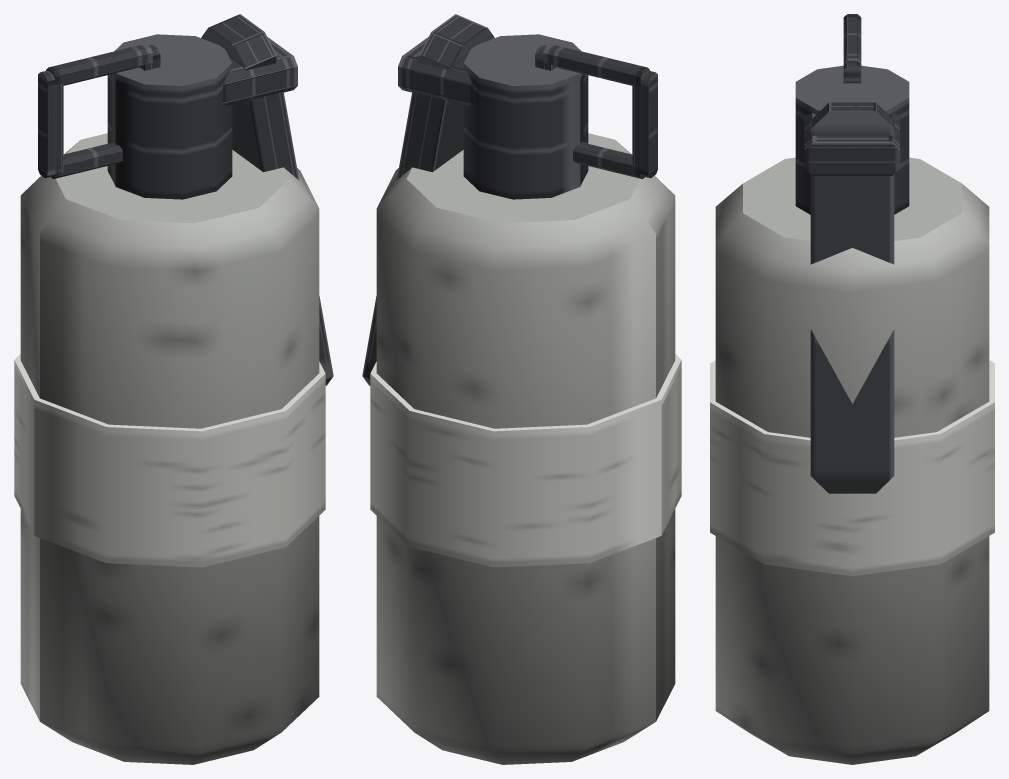
File: Flashbang_1P.glb
3 views of the same model, side by side, from view 1: azimuth 30°, elevation 25°; view 2: azimuth 150°, elevation 25°; view 3: azimuth 270°, elevation 25° (orthographic). The views are drawn at different scales.
Visible parts, largest first — view 1: Flashbang_1P; view 2: Flashbang_1P; view 3: Flashbang_1P.
Part boxes in pixels (left/top/right/bottom): Flashbang_1P: left=14, top=14, right=333, bottom=764; Flashbang_1P: left=362, top=14, right=681, bottom=764; Flashbang_1P: left=710, top=14, right=994, bottom=764.
Bounding box in the file's own units: 0.0517 × 0.1195 × 0.0476.
1 material, 1 textured.
